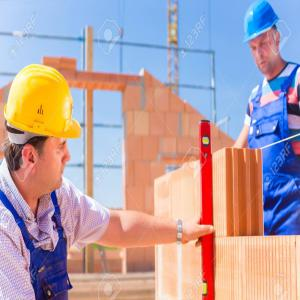blue: (246, 2, 279, 76)
yellow: (10, 65, 73, 193)
